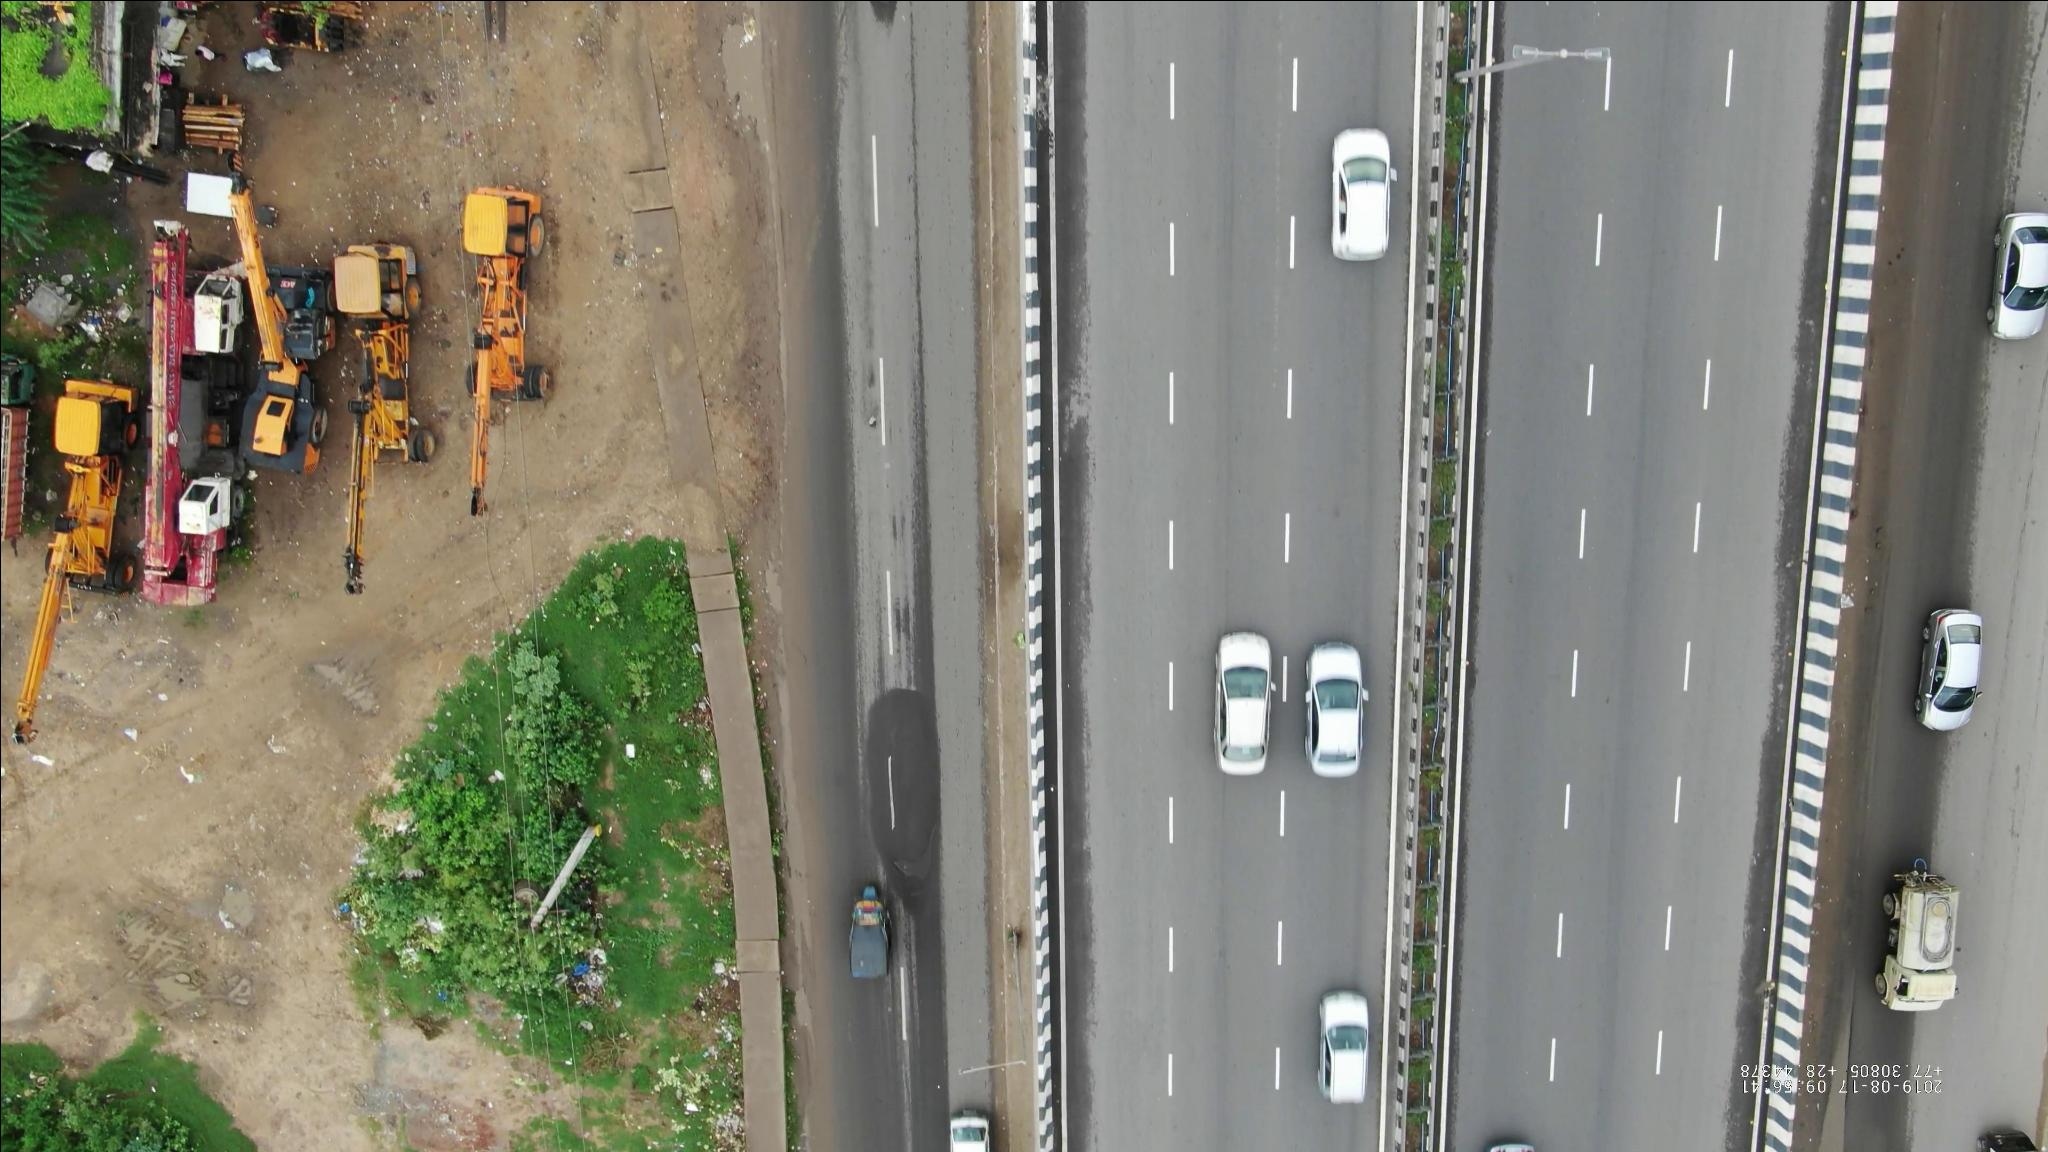Muddy_road: (1754, 812, 1860, 1152)
Potholes: (841, 658, 956, 888)
